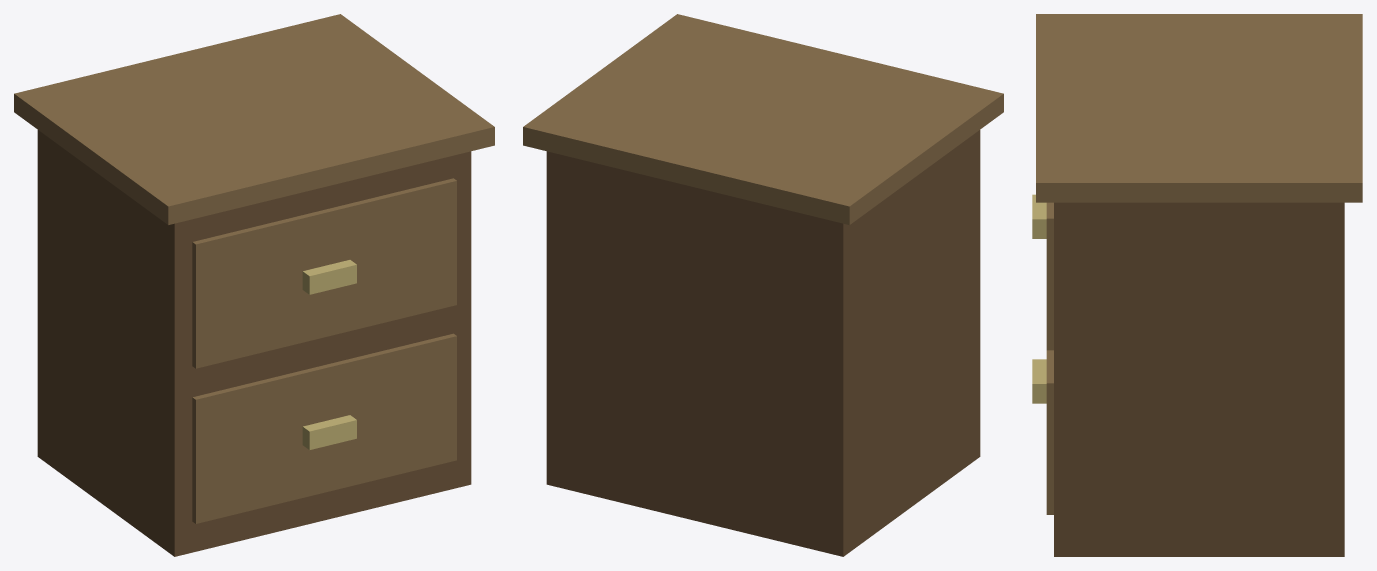
File: drawer.glb
3 renders of one model, left to right at view 1: azimuth 30°, elevation 25°; view 2: azimuth 150°, elevation 25°; view 3: azimuth 270°, elevation 25°, orthographic. The views are drawn at different scales.
Size of the model in its own units: 0.55 by 0.58 by 0.455.
